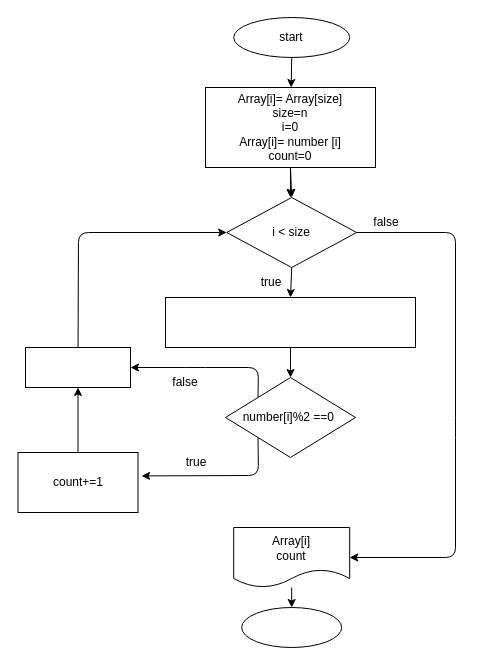
Image size: 481x665. Some labels were removed from this diagram. The centre of each missing label's shape, as x and y in pixels:
Arrai[i]=new Random().Next(100, 1000): (290,322)
end: (291,627)
i++: (77,367)
